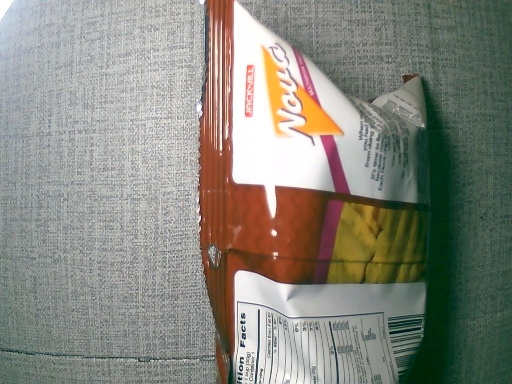plastic: (194, 5, 441, 384)
